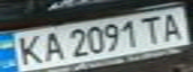0: (84, 24, 109, 55)
1: (118, 17, 142, 47)
2: (63, 25, 90, 58)
9: (103, 20, 124, 52)
A: (157, 10, 190, 42), (36, 29, 66, 63)
K: (9, 32, 48, 66)
T: (136, 12, 169, 44)
